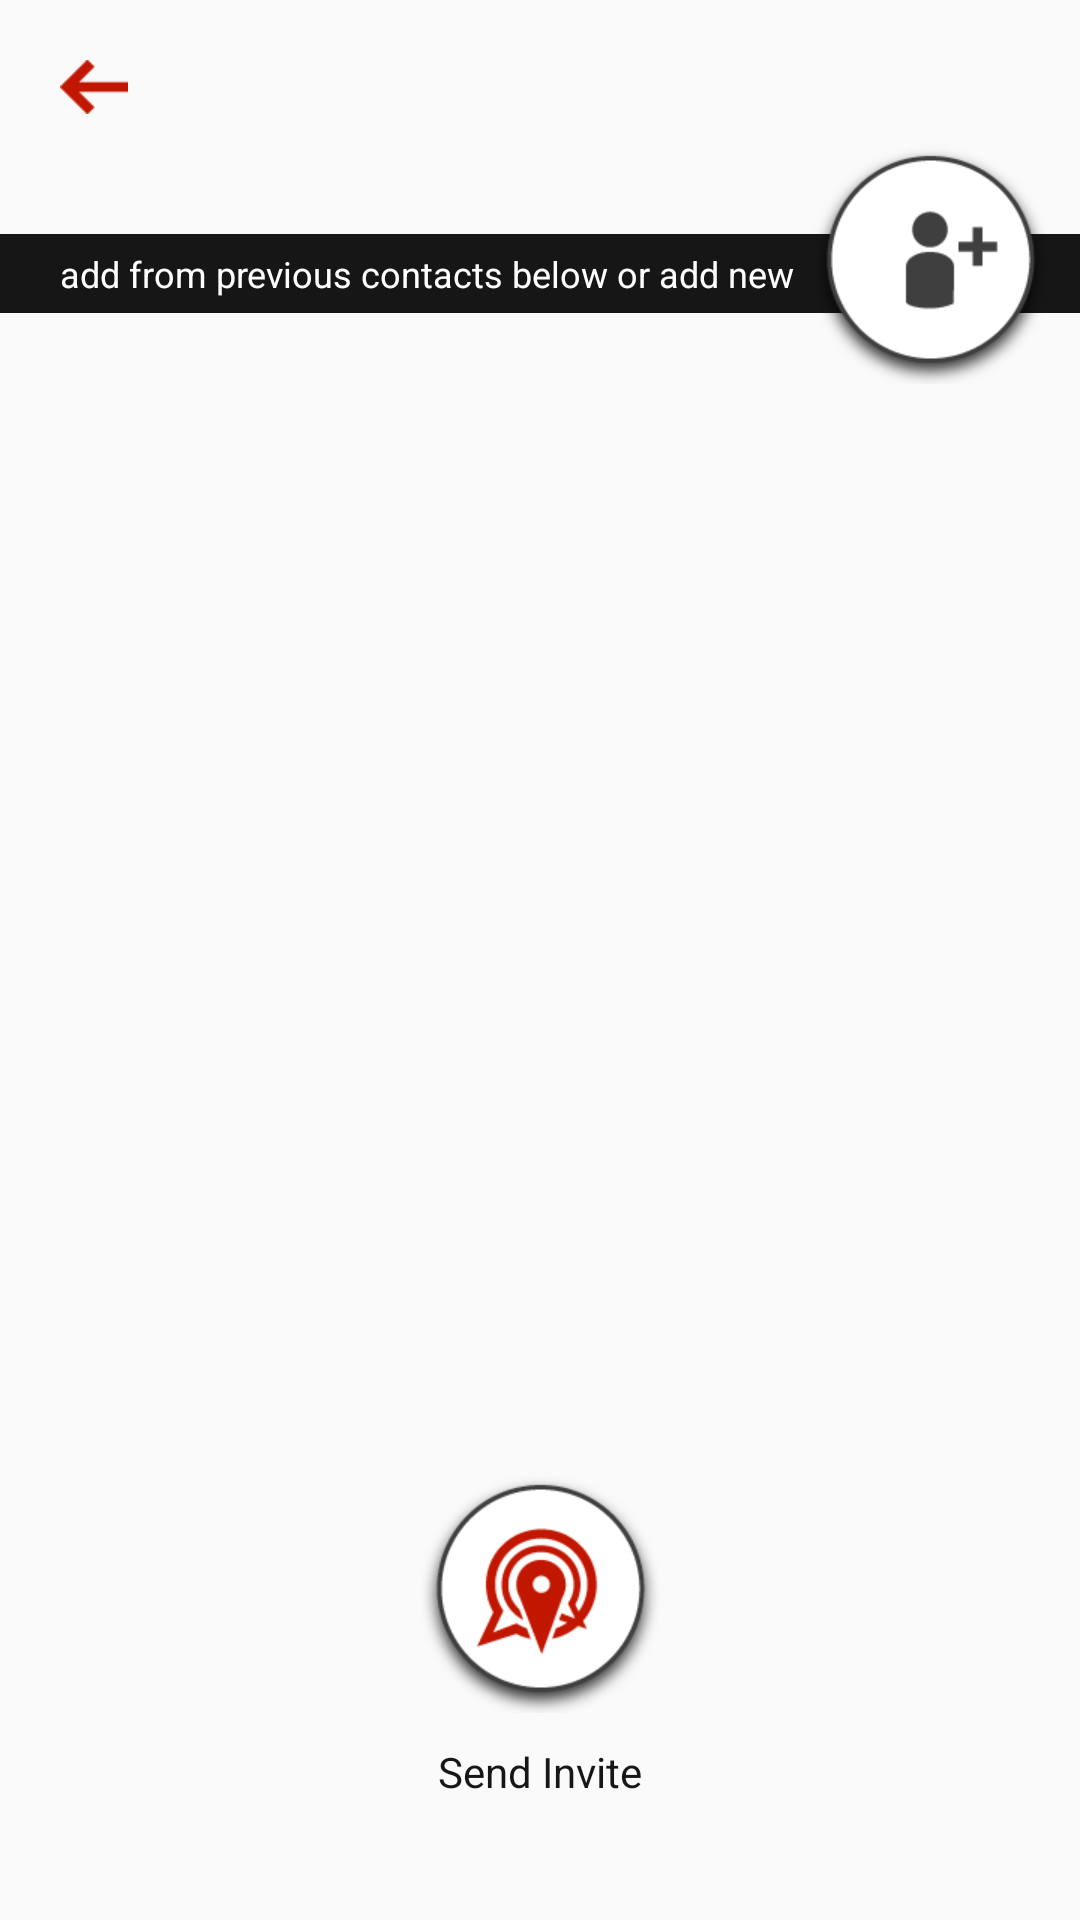

Icons on this 1080×1920 Android screen, each with the point to tap as [x,y]:
back to map creator button: [94,87]
Send messsage to selected contacts button: [540,1596]
